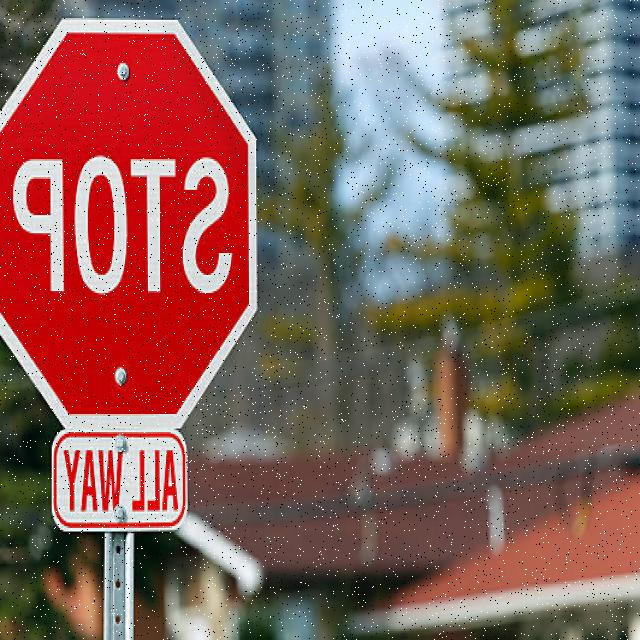stop: (0, 11, 261, 432)
